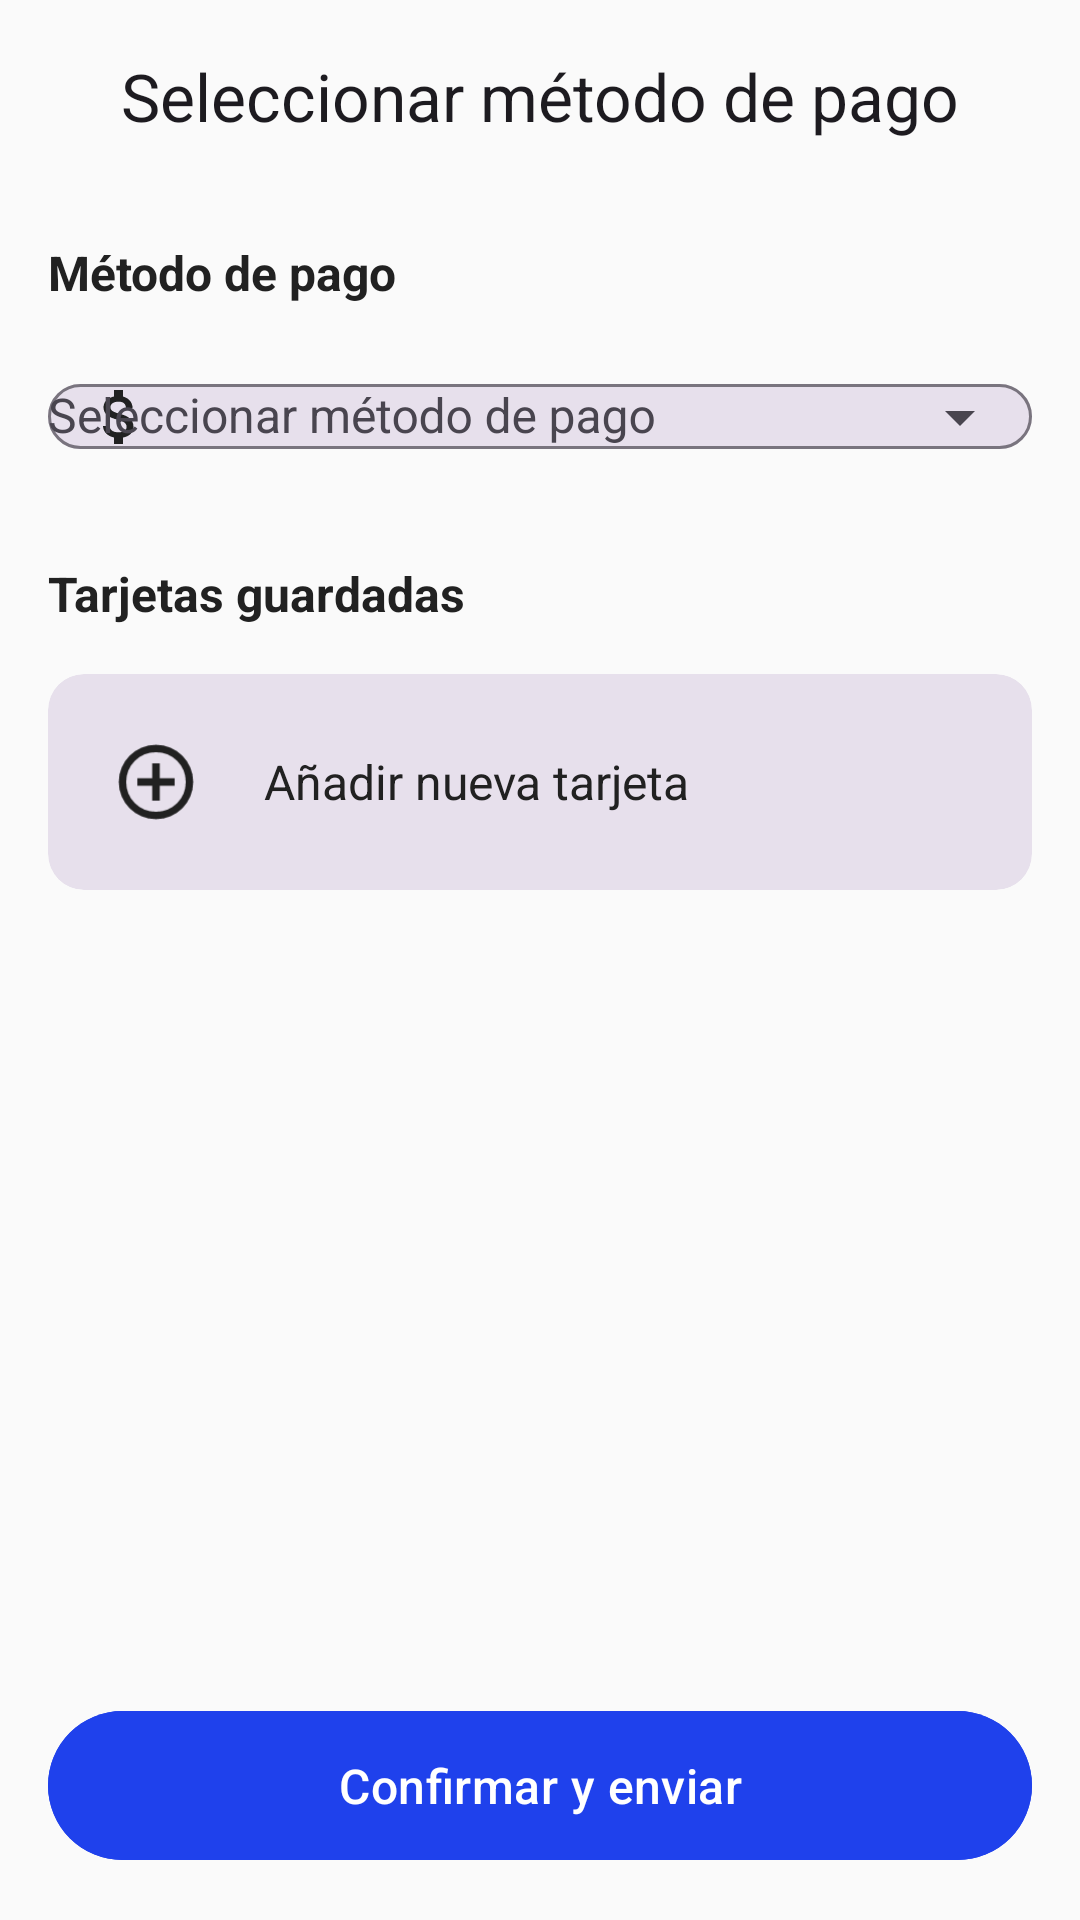

Locate icon controls on the screen. Image size 1080 x 1920, boxes as (x1, y1, x2, y2).
addcircle: (118, 744, 194, 820)
